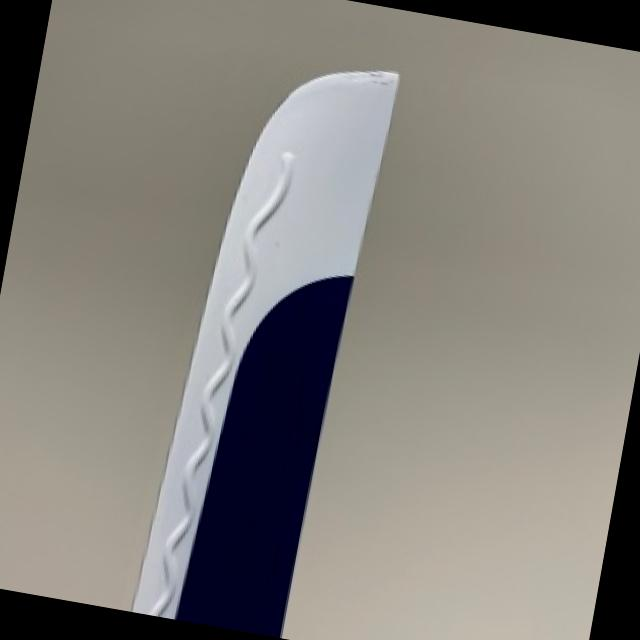healthy: (130, 69, 396, 635)
